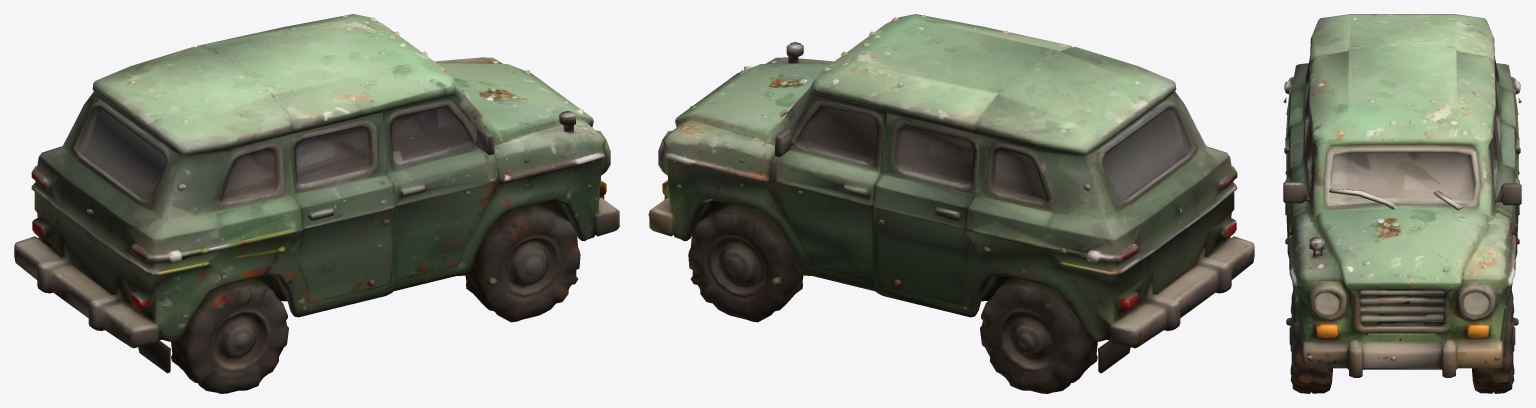
Rendered from old_van.glb.
The picture shows the model from 3 angles, left to right: view 1: azimuth 30°, elevation 25°; view 2: azimuth 150°, elevation 25°; view 3: azimuth 270°, elevation 25°; orthographic projection. The views are drawn at different scales.
Visible parts, largest first — view 1: tripo_node_ffc31127-13d3-4e01-8b58-e8595b2c666d; view 2: tripo_node_ffc31127-13d3-4e01-8b58-e8595b2c666d; view 3: tripo_node_ffc31127-13d3-4e01-8b58-e8595b2c666d.
Boxes of the visible parts, <box> form: tripo_node_ffc31127-13d3-4e01-8b58-e8595b2c666d: <box>14,14,619,393</box>; tripo_node_ffc31127-13d3-4e01-8b58-e8595b2c666d: <box>648,14,1254,393</box>; tripo_node_ffc31127-13d3-4e01-8b58-e8595b2c666d: <box>1283,14,1521,393</box>.
Bounding box in the file's own units: 3.05 × 1.5 × 1.36.
1 material, 1 textured.
